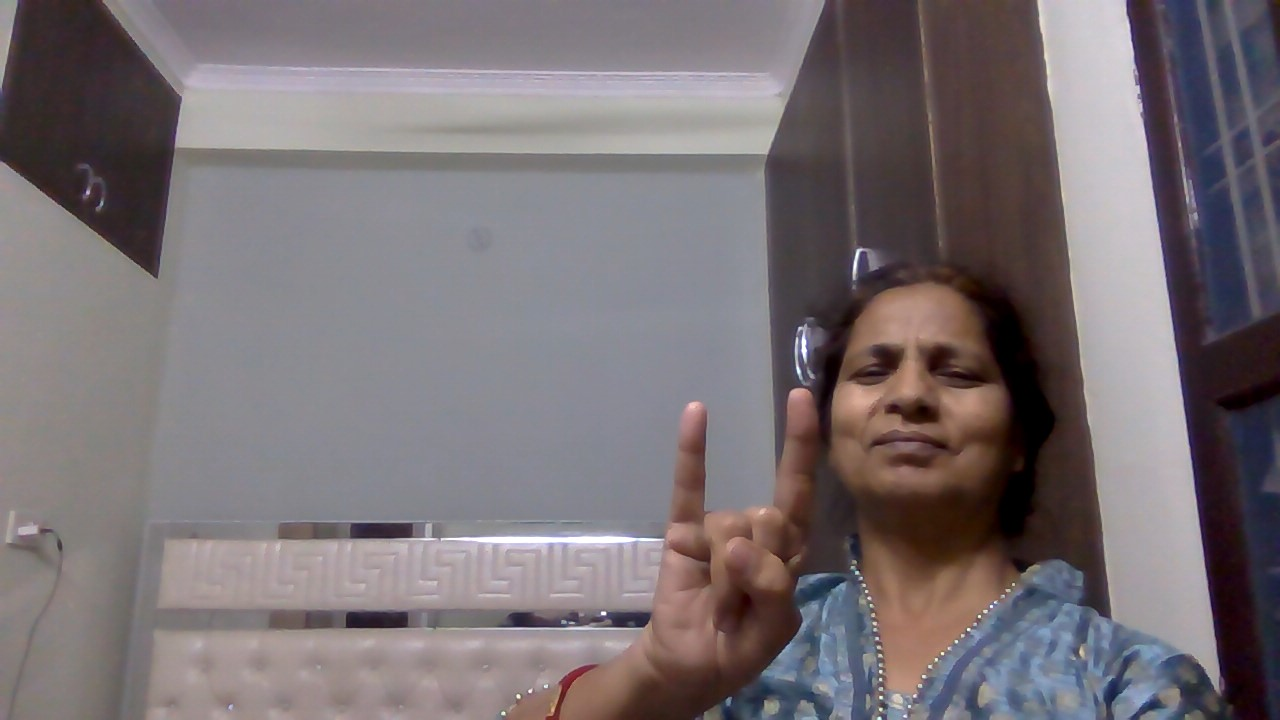Select All: (635, 384, 837, 702)
